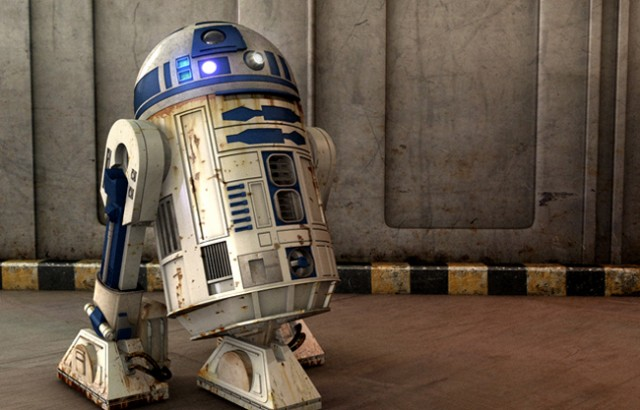r2d2: (57, 21, 342, 410)
